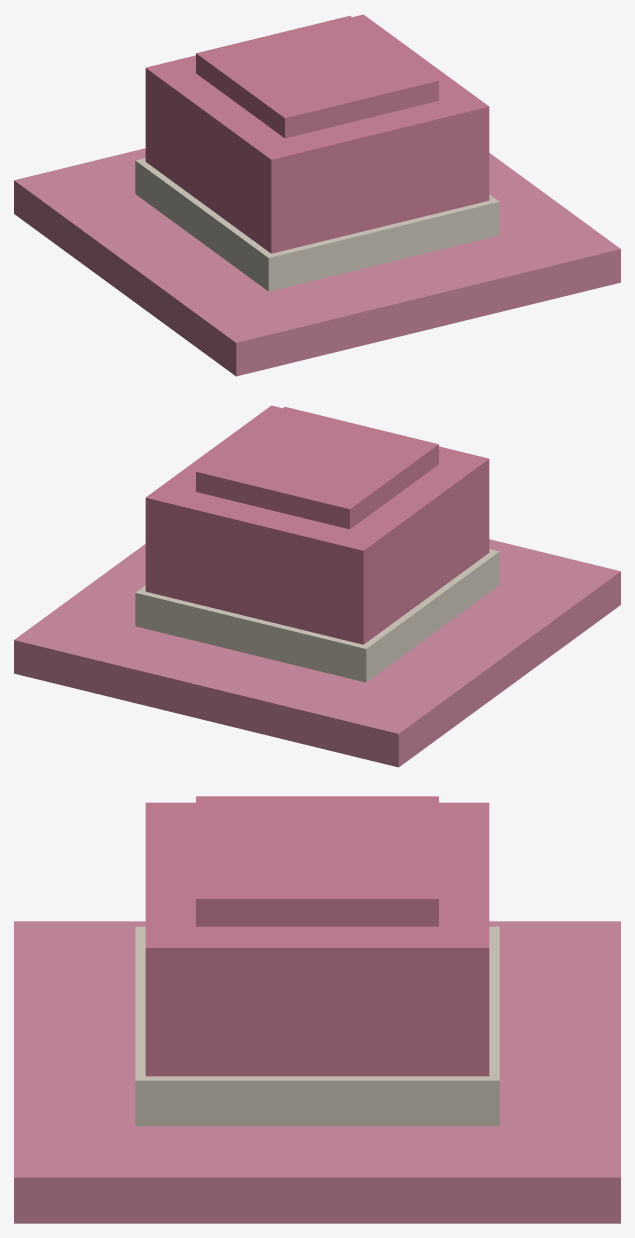
Rendered from cp-hat-pink.glb.
3 views of the same model, one above another, from view 1: azimuth 30°, elevation 25°; view 2: azimuth 150°, elevation 25°; view 3: azimuth 270°, elevation 25° (orthographic). The views are drawn at different scales.
Visible parts, largest first — view 1: box-prop; view 2: box-prop; view 3: box-prop.
Part boxes in pixels (left/top/right/bottom): box-prop: left=14, top=14, right=620, bottom=376; box-prop: left=14, top=405, right=620, bottom=767; box-prop: left=14, top=796, right=620, bottom=1223.
Size of the model in its own units: 0.6 by 0.27 by 0.6.
